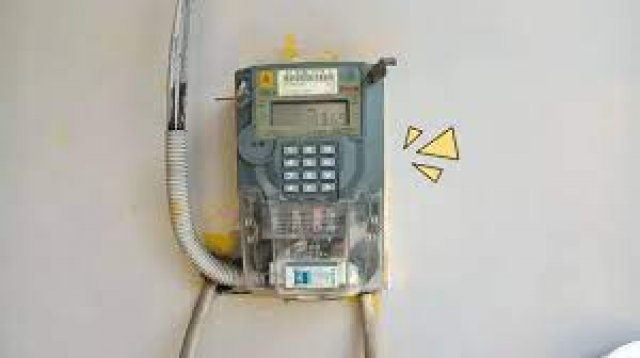box: (271, 102, 350, 128)
